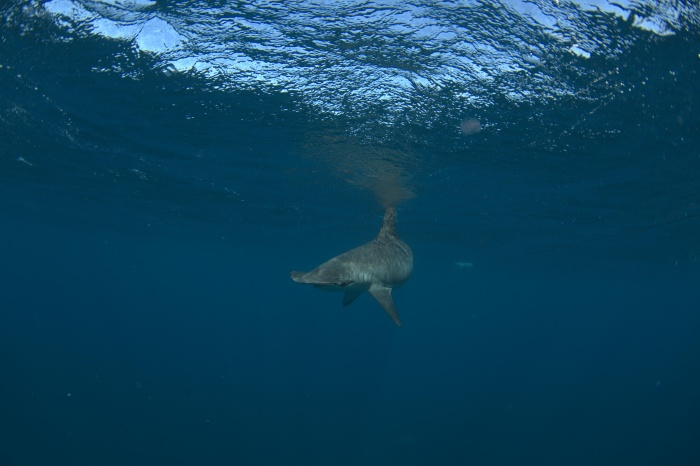Hammer: (283, 200, 444, 338)
